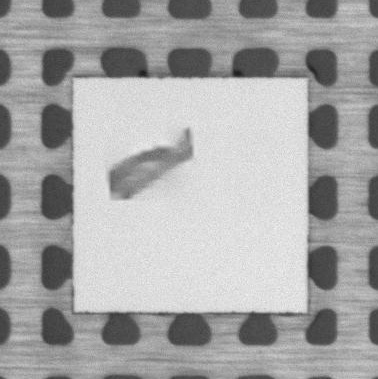DIE_INK: (108, 128, 195, 201)
